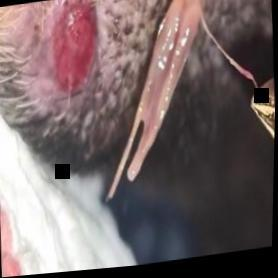skin_lesions: (44, 0, 103, 102)
